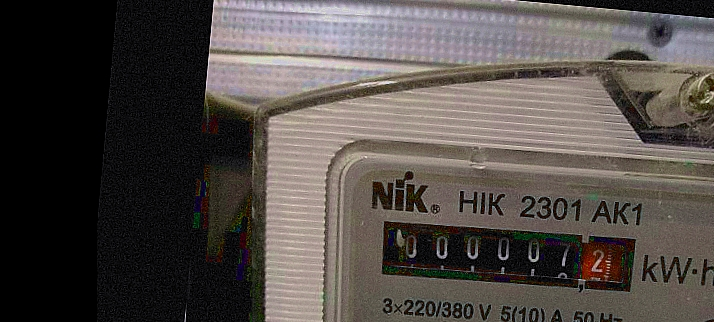0: (401, 231, 421, 260), (432, 232, 452, 261), (524, 235, 543, 265), (463, 233, 483, 261), (495, 234, 512, 262)
2: (589, 245, 607, 276)
7: (554, 239, 573, 269)
screen: (370, 207, 649, 303)
